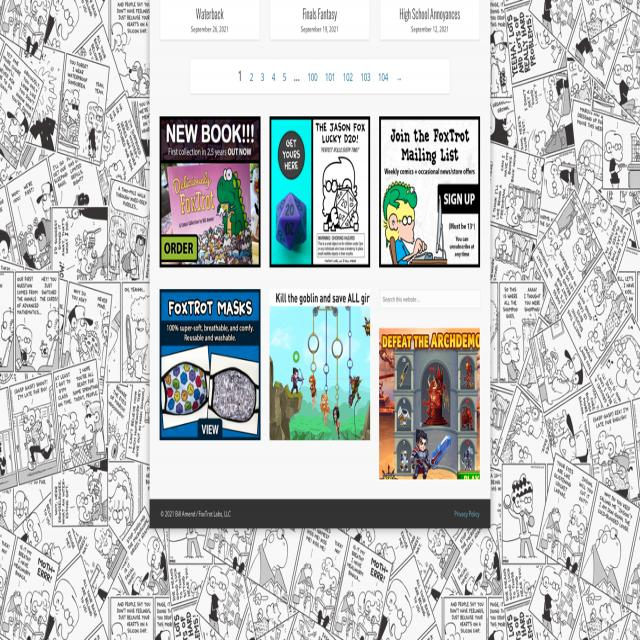button: (269, 288, 370, 441), (379, 327, 480, 480), (379, 116, 480, 268), (160, 116, 260, 268), (270, 116, 370, 268), (160, 290, 260, 440)
field: (379, 290, 481, 310)
